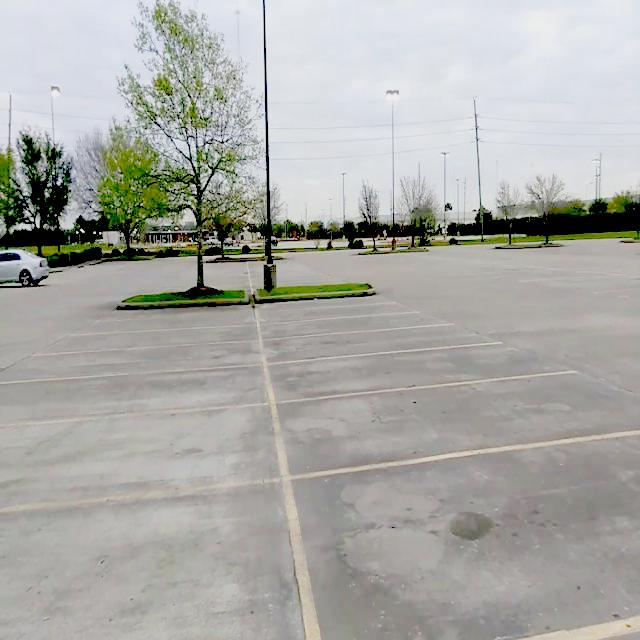empty: (288, 438, 639, 640), (0, 484, 312, 640), (272, 372, 638, 484), (0, 398, 284, 514), (271, 346, 596, 414), (0, 376, 261, 433), (263, 324, 510, 365), (8, 340, 258, 378), (18, 327, 268, 355), (64, 305, 253, 334), (261, 314, 450, 342), (261, 302, 402, 324)
